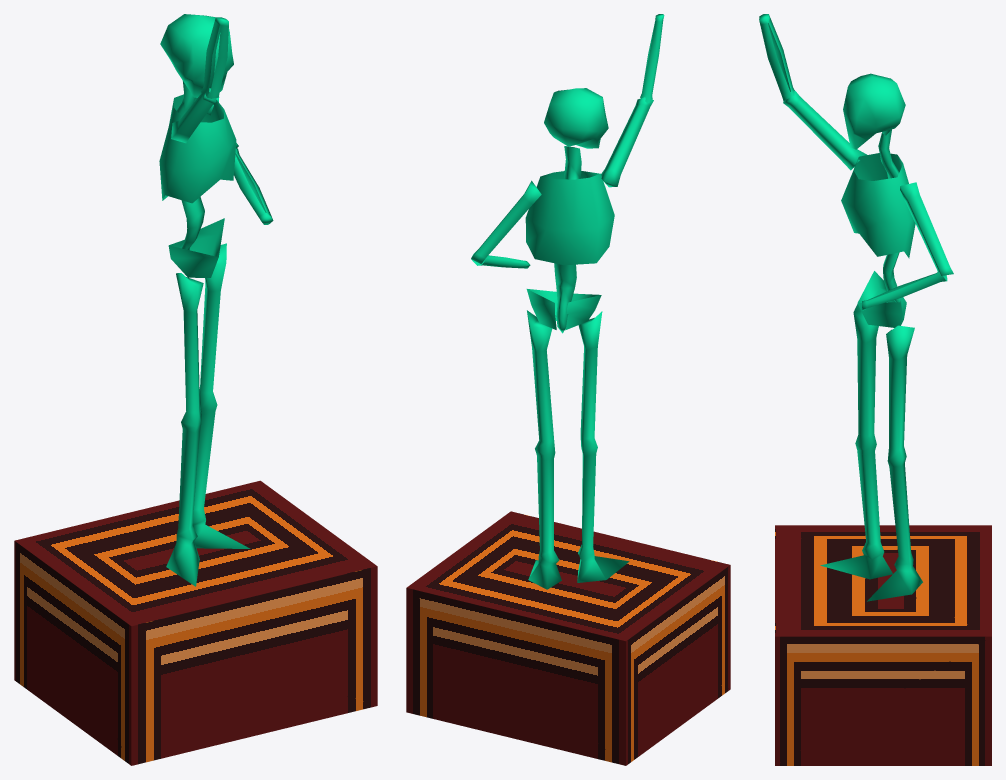
File: Statue.fbx
3 views of the same model, side by side, from view 1: azimuth 30°, elevation 25°; view 2: azimuth 150°, elevation 25°; view 3: azimuth 270°, elevation 25° (orthographic). The views are drawn at different scales.
Parts seen in each view (by area): view 1: Base, Estatua; view 2: Base, Estatua; view 3: Base, Estatua.
Boxes of the visible parts, x1,y1,x2,y2 form: Base: (14,480,377,765); Estatua: (159,14,273,586); Base: (406,511,730,765); Estatua: (471,14,664,589); Base: (775,525,991,765); Estatua: (759,14,953,601).
Bounding box in the file's own units: 135 × 384 × 120.
Materials: 2 (1 with a texture image).
